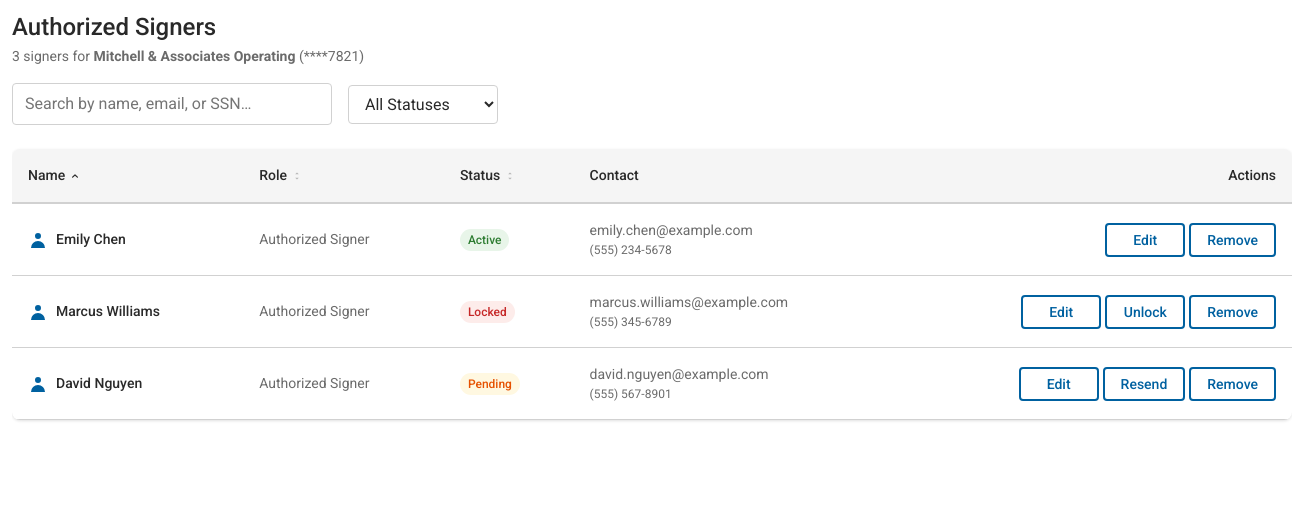
Test: SignerList › action messages › shows error message when unlock fails
The width and height of the screenshot is (1292, 513).
Click the button with aria-label "unlock signer marcus williams" at {"x": 1145, "y": 312}, box [1105,294,1185,328]
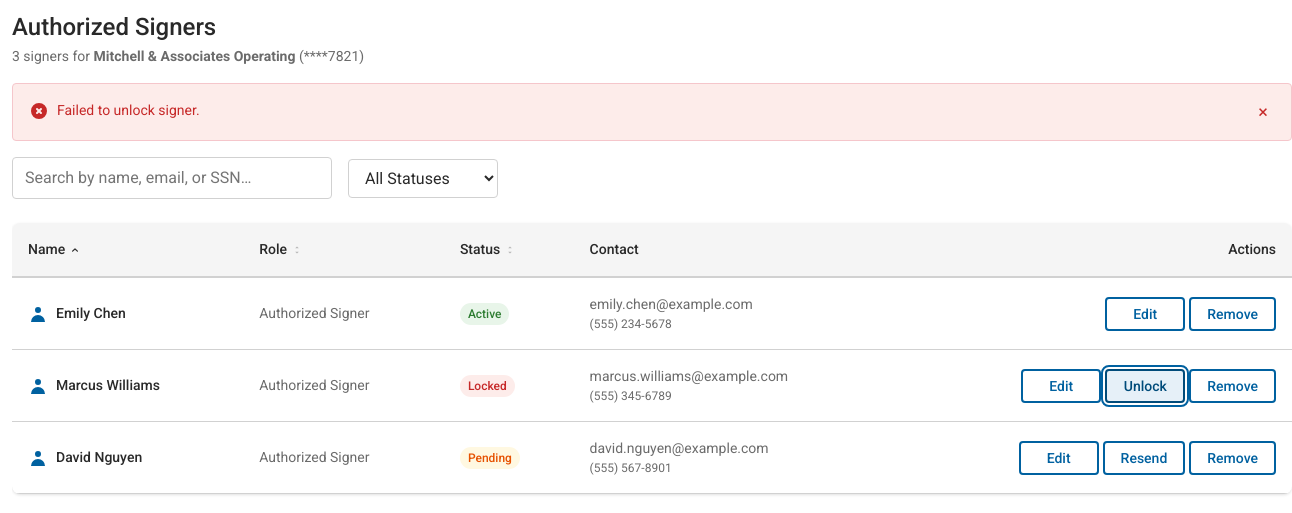
Now the text "Failed to unlock signer." is shown, box [57,102,200,118]
